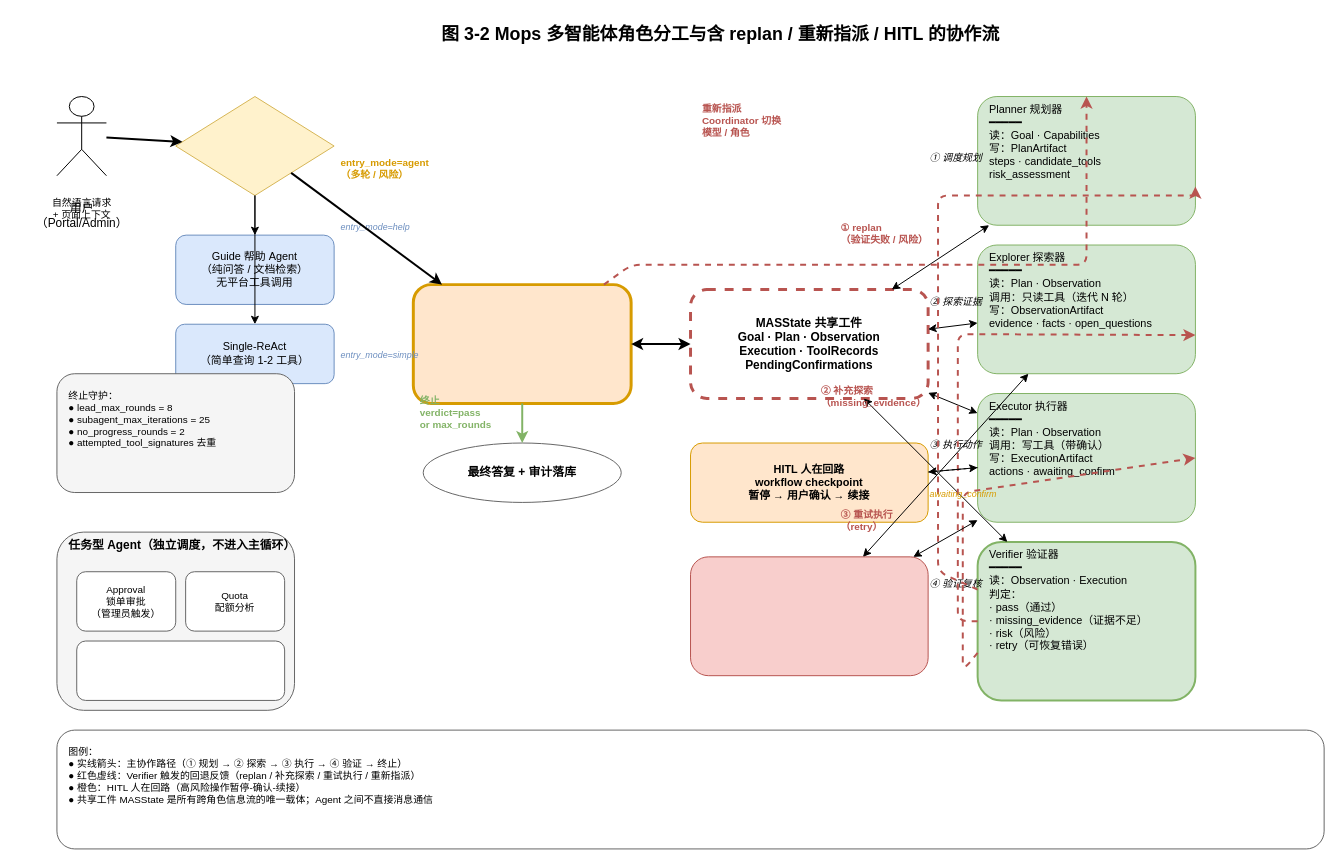
This 1341x866 diagram has some shape labels left out. The shapes that lost their labels are listed below. From the top down, each one's centre as x and y in pixels, then its label:
point 254,146: 意图路由器 IntentRouter (轻量分类)
point 521,343: Coordinator 协调器 阶段状态机驱动 loop_round / no_progress next_action 调度
point 809,616: 工具执行器 ━━━━━ GoBackend Executor（生产） Local Executor（直连） Mock Executor（回放）
point 180,670: Inspection 巡检 （cron 每小时）
